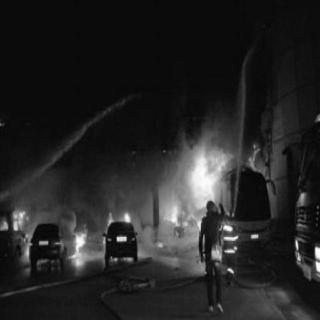Fire: (184, 144, 232, 212), (23, 233, 31, 256)
other: (296, 184, 308, 208)
